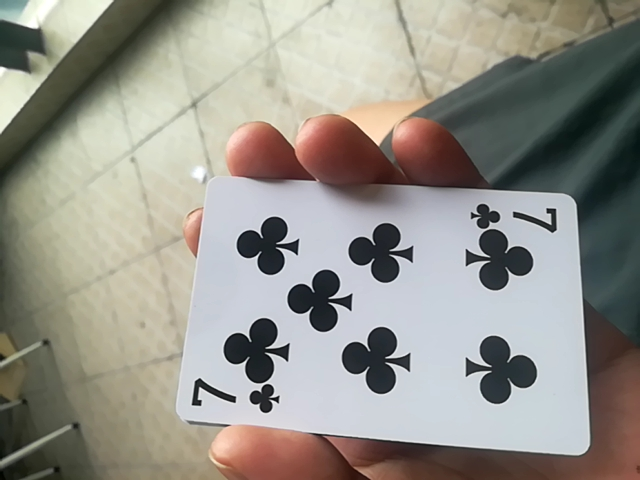mh 7: (166, 171, 590, 456)
